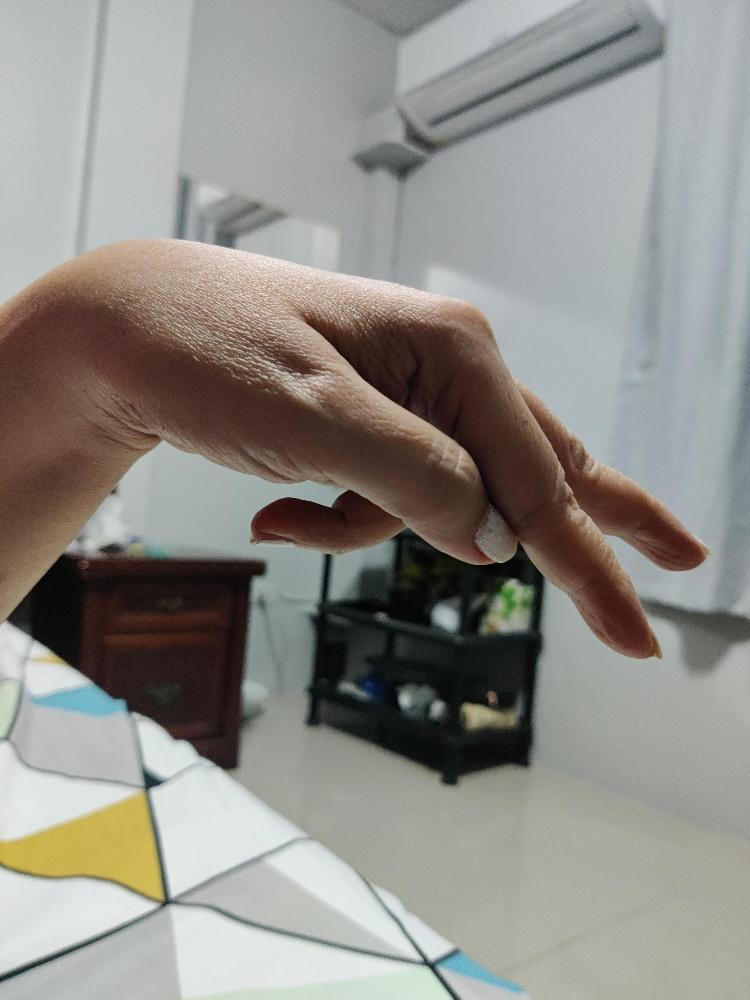p: (141, 234, 710, 659)
